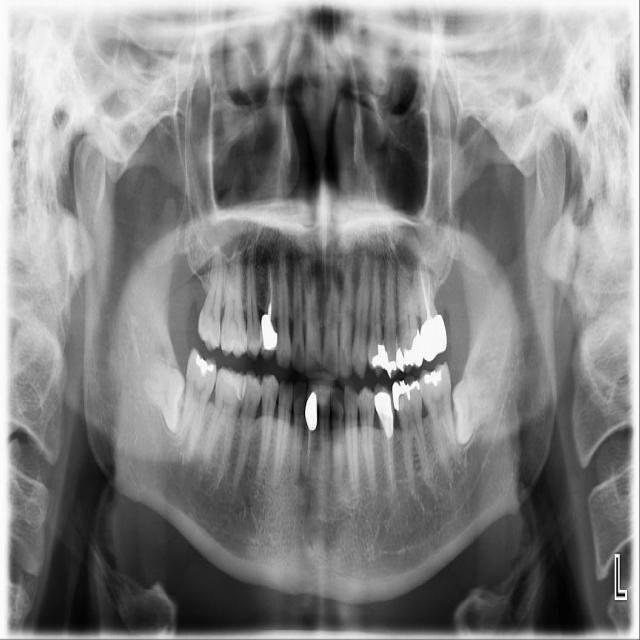52: (416, 360, 455, 413), (391, 374, 425, 433), (391, 329, 425, 373), (418, 314, 449, 362), (371, 389, 398, 442), (373, 345, 401, 379), (262, 314, 279, 351), (305, 392, 317, 432), (372, 343, 384, 368)
73: (138, 359, 189, 434), (417, 262, 440, 328), (380, 420, 401, 492), (300, 427, 316, 478), (265, 262, 276, 326), (579, 554, 583, 560)
BioHorizons Implant: (411, 260, 450, 362)
Biomet 3i Implant: (451, 376, 497, 445)
Blue Sky Bio Implant: (417, 360, 459, 470)
Caries: (196, 247, 226, 350)
Implant: (175, 347, 219, 459)
